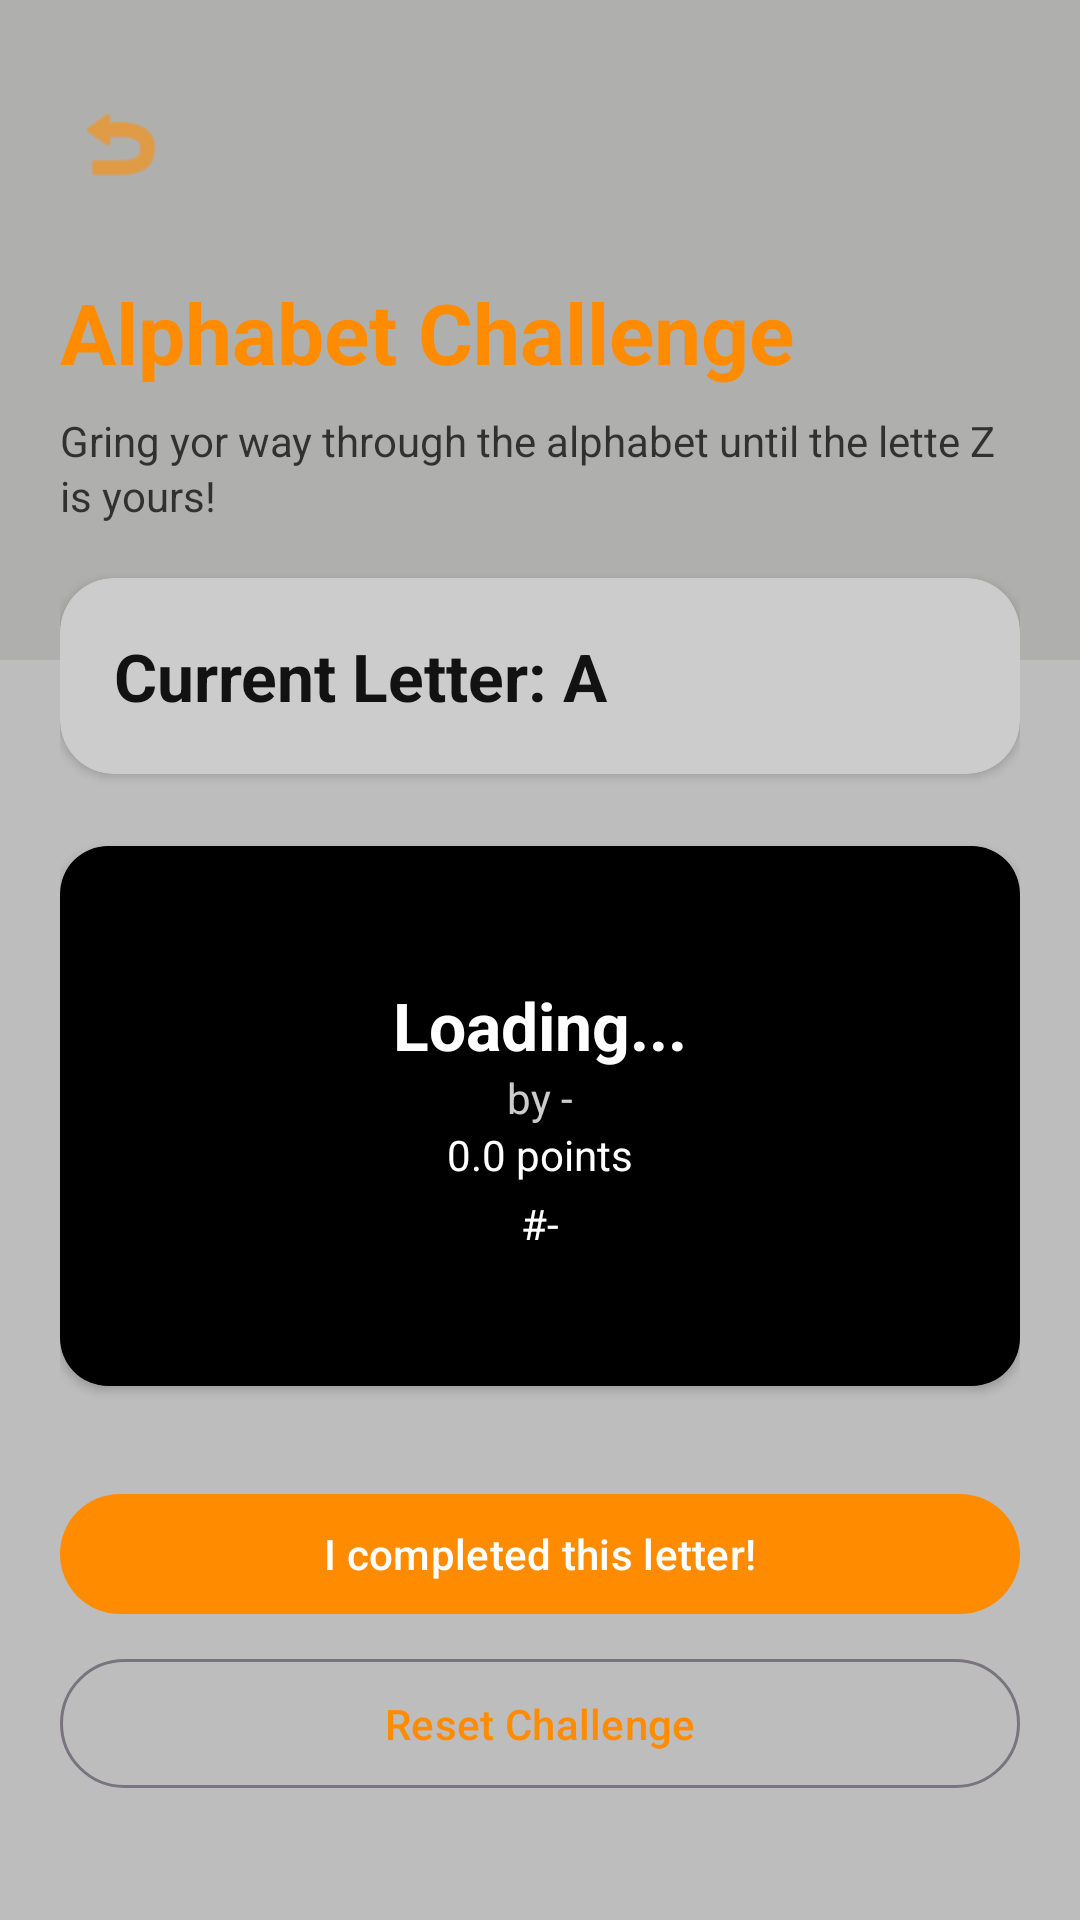

Icon click points for this 1080×1920 phone screenshot, format (x,y):
revert: (121,144)
